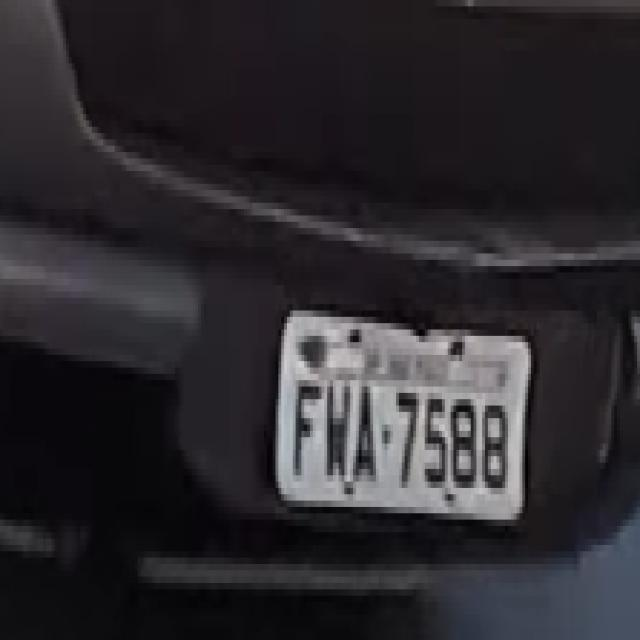Placa_mercosul_carro: (275, 303, 531, 521)
